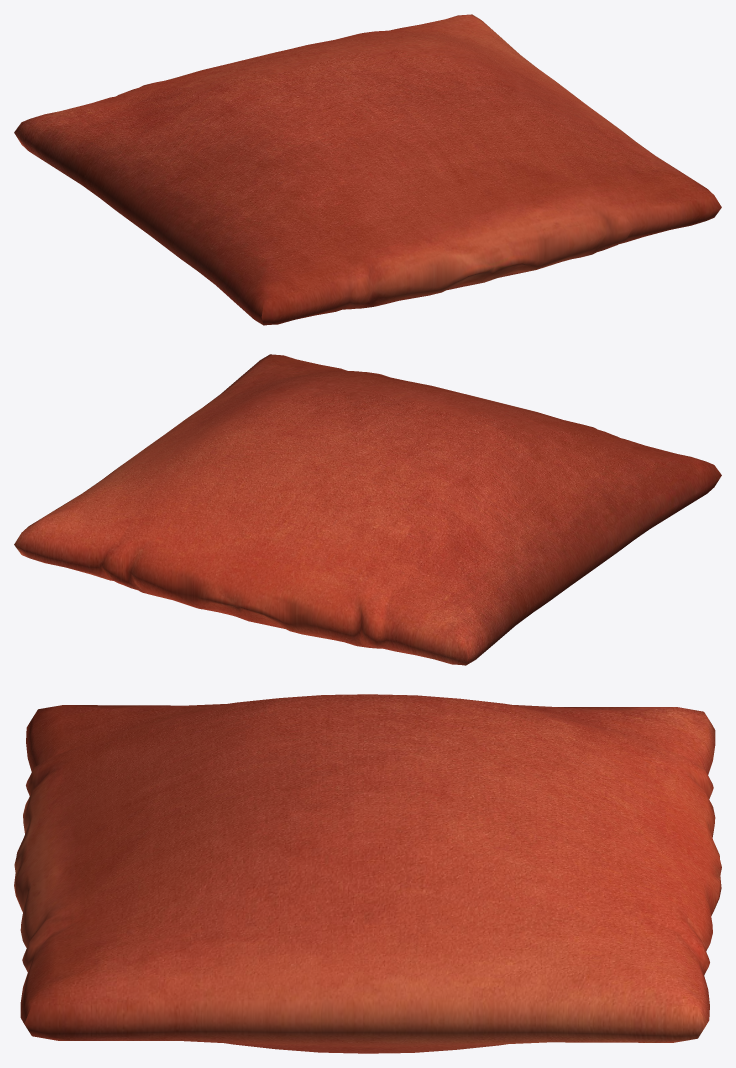
Rendered from pillow_4.fbx.
3 views of the same model, one above another, from view 1: azimuth 30°, elevation 25°; view 2: azimuth 150°, elevation 25°; view 3: azimuth 270°, elevation 25° (orthographic). The views are drawn at different scales.
Visible parts, largest first — view 1: group_5; view 2: group_5; view 3: group_5.
Boxes of the visible parts, x1,y1,x2,y2 form: group_5: (14, 14, 721, 325); group_5: (14, 354, 721, 665); group_5: (14, 694, 721, 1053).
Size of the model in its own units: 42.14 by 15.6 by 41.08.
1 material, 1 textured.
